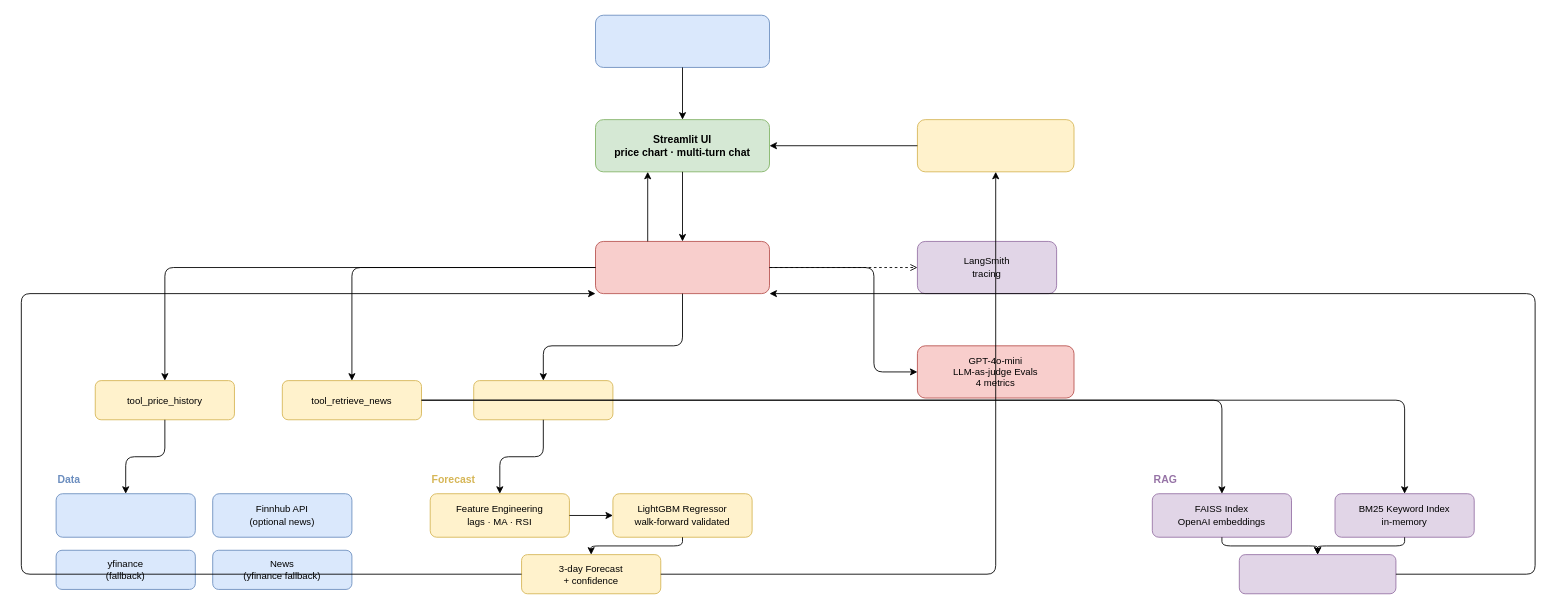
The diagram is 1557 pixels wide and 609 high, and some of its shapes have lost their labels. The shapes that lost their labels are listed below. From the top down, each one's centre as x and y in pixels, then its label:
the point at 682,40: User ticker + question
the point at 995,145: Claude Opus 4.5 Stock Snapshot 3-4 bullets
the point at 682,267: LangGraph ReAct Agent Claude Sonnet 4.6
the point at 543,400: tool_forecast_price
the point at 125,515: Alpha Vantage API (primary)
the point at 1317,574: RRF Fusion Reciprocal Rank Fusion
